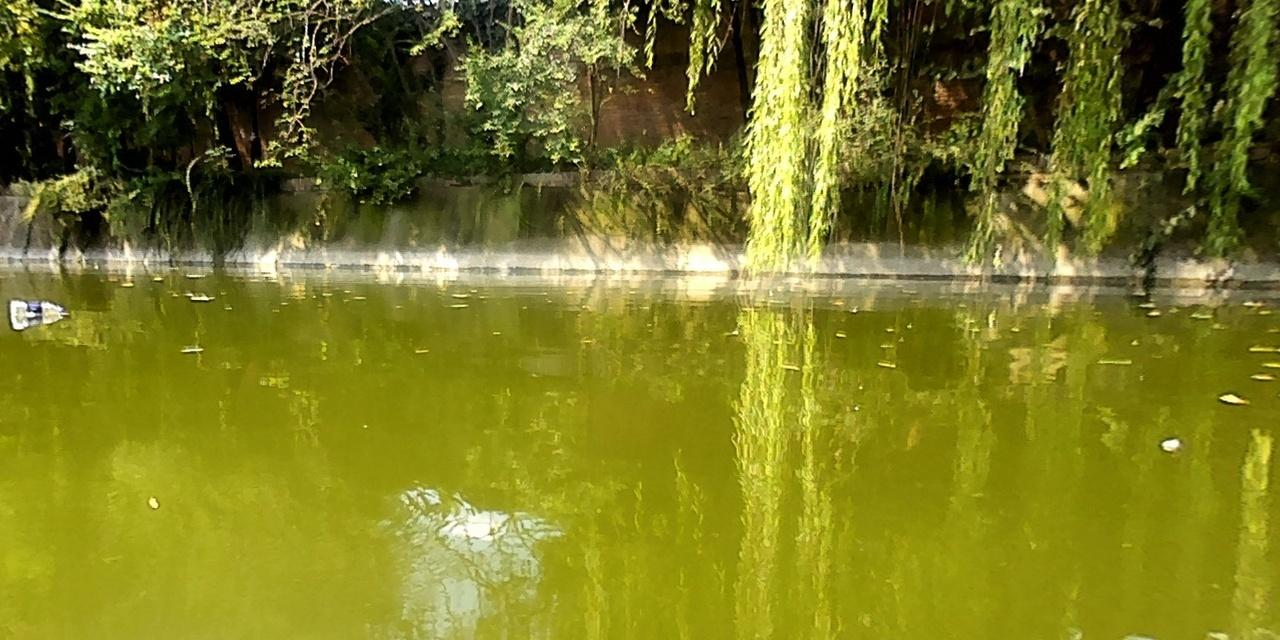bottle: (5, 294, 71, 319)
